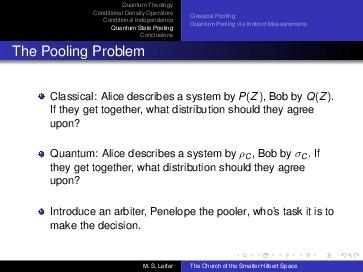paragraph: (33, 82, 342, 238)
title: (10, 36, 151, 65)
